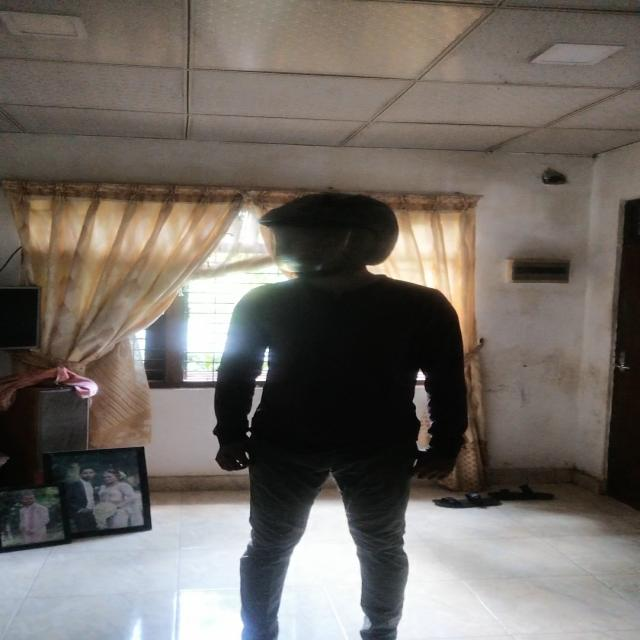Helmet_Wearer: (236, 193, 416, 280)
Person: (218, 191, 455, 640)
